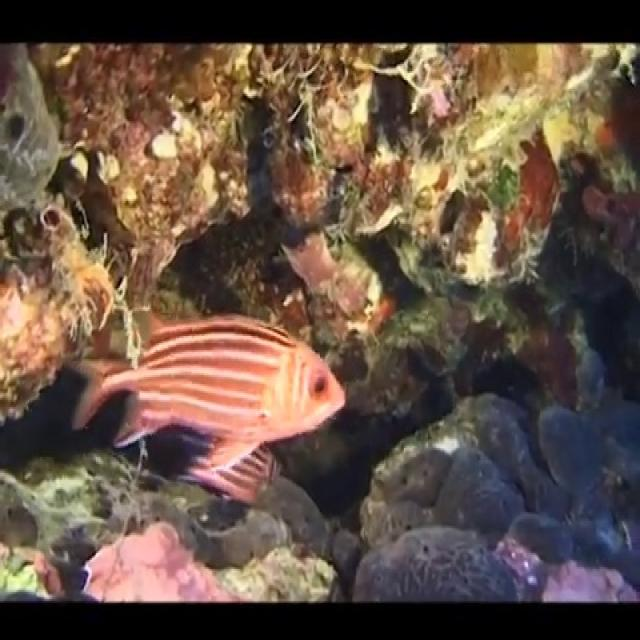Asker Baligi: (68, 307, 348, 505)
